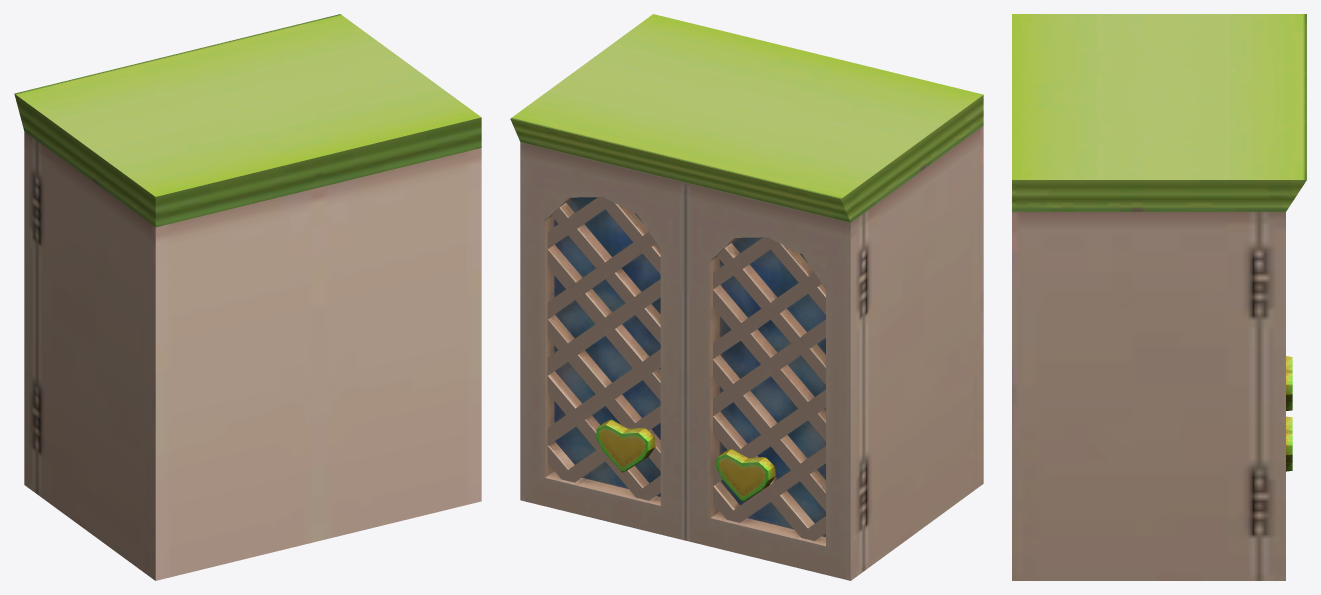
File: furni_0200017_02.FBX
3 renders of one model, left to right at view 1: azimuth 30°, elevation 25°; view 2: azimuth 150°, elevation 25°; view 3: azimuth 270°, elevation 25°, orthographic. The views are drawn at different scales.
Visible parts, largest first — view 1: furni_0200017_02; view 2: furni_0200017_02; view 3: furni_0200017_02.
Part boxes in pixels (left/top/right/bottom): furni_0200017_02: left=14, top=14, right=481, bottom=580; furni_0200017_02: left=510, top=14, right=983, bottom=580; furni_0200017_02: left=1012, top=14, right=1306, bottom=580.
Size of the model in its own units: 80 by 90 by 60.
Materials: 1 (1 with a texture image).
